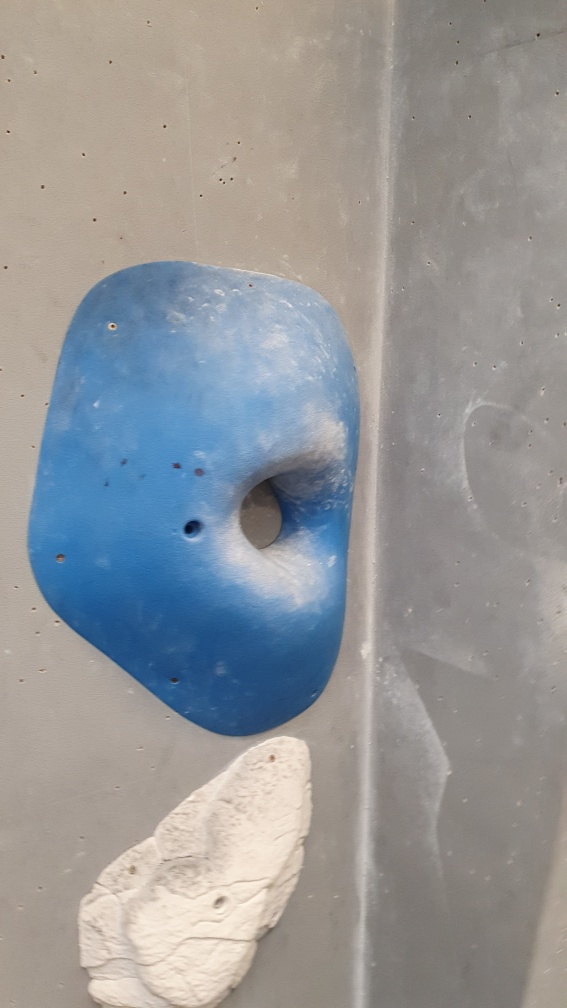Pocket: (25, 260, 362, 741)
